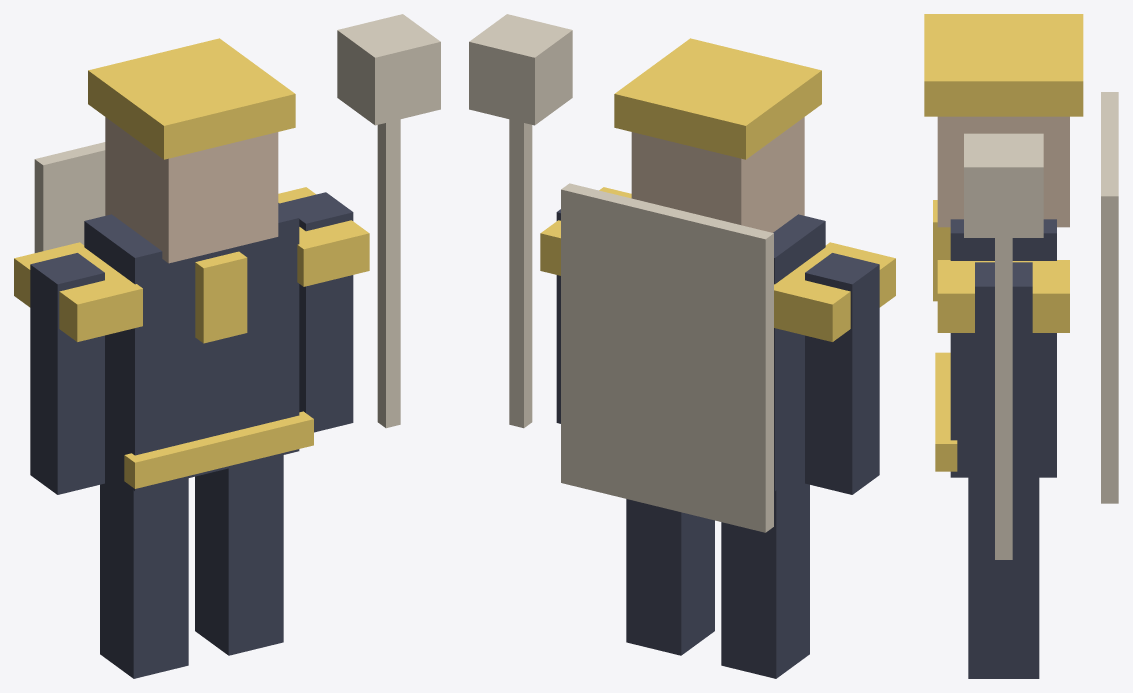
File: 07_brant_runeclasp_ranger_near_voidwatch.glb
The picture shows the model from 3 angles, left to right: view 1: azimuth 30°, elevation 25°; view 2: azimuth 150°, elevation 25°; view 3: azimuth 270°, elevation 25°; orthographic projection. The views are drawn at different scales.
Visible parts, largest first — view 1: Brant Runeclasp, Ranger near Voidwatch; view 2: Brant Runeclasp, Ranger near Voidwatch; view 3: Brant Runeclasp, Ranger near Voidwatch.
Part boxes in pixels (box(x1,y1,x2,y2)): Brant Runeclasp, Ranger near Voidwatch: box(14, 14, 440, 678); Brant Runeclasp, Ranger near Voidwatch: box(469, 14, 895, 678); Brant Runeclasp, Ranger near Voidwatch: box(924, 14, 1118, 678).
Size of the model in its own units: 1.13 by 1.61 by 0.4788.
